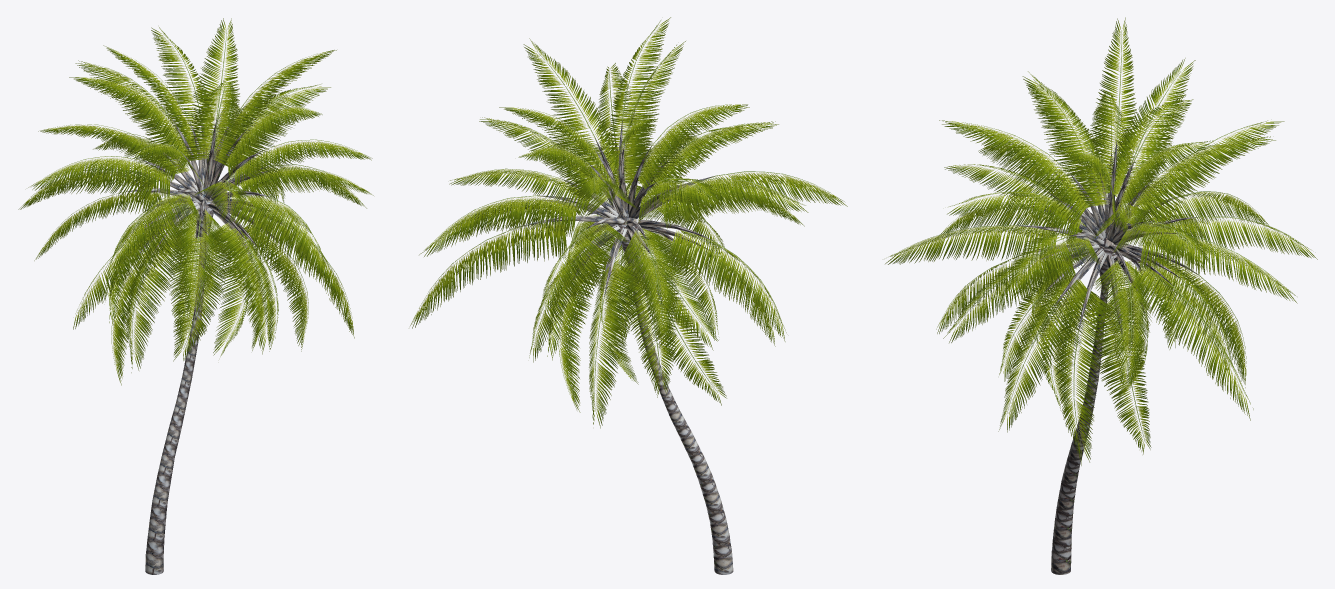
The model's file is coconutpalm.glb.
The picture shows the model from 3 angles, left to right: view 1: azimuth 30°, elevation 25°; view 2: azimuth 150°, elevation 25°; view 3: azimuth 270°, elevation 25°; orthographic projection. The views are drawn at different scales.
Parts seen in each view (by area): view 1: tree.001; view 2: tree.001; view 3: tree.001.
Boxes of the visible parts, x1=… form: tree.001: x1=18, y1=18, x2=373, y2=574; tree.001: x1=410, y1=17, x2=847, y2=574; tree.001: x1=885, y1=17, x2=1317, y2=574.
Bounding box in the file's own units: 185 × 248 × 187.
2 materials, 2 textured.
